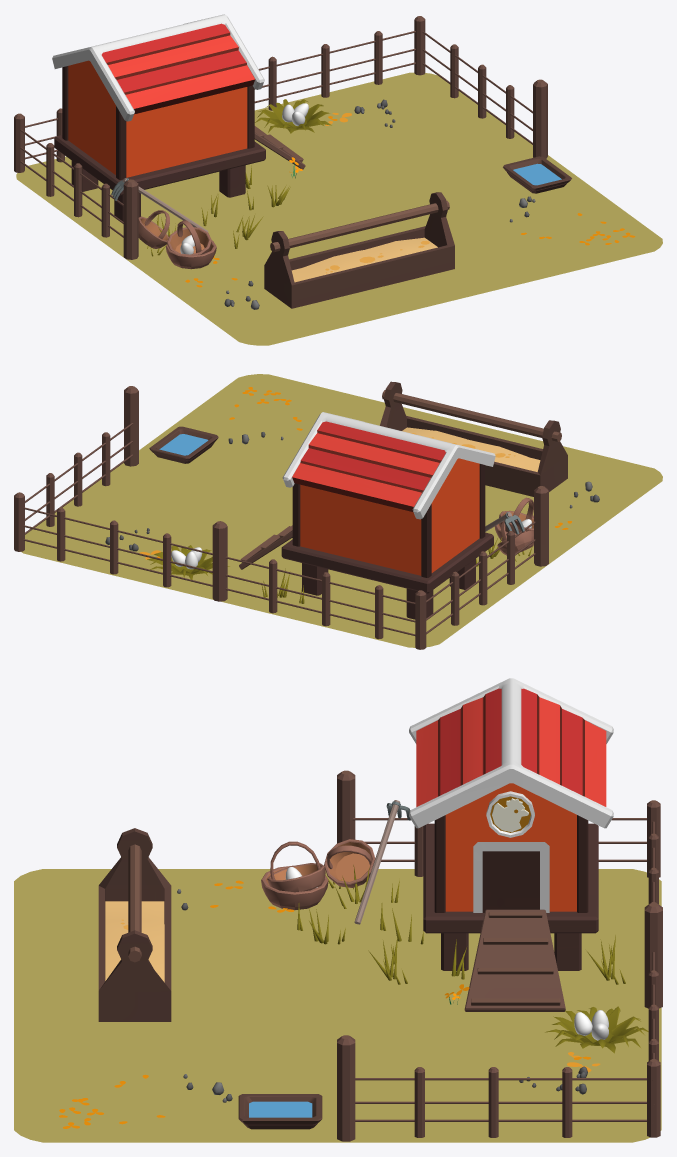
The model's file is Henhouse.fbx.
The picture shows the model from 3 angles, top to bottom: view 1: azimuth 30°, elevation 25°; view 2: azimuth 150°, elevation 25°; view 3: azimuth 270°, elevation 25°; orthographic projection. The views are drawn at different scales.
Visible parts, largest first — view 1: land, house, mang_thuc_an, hang_rao, gio_trung, khay_nuoc, bui_trung, grass, hoa, rock, cao; view 2: land, house, hang_rao, mang_thuc_an, khay_nuoc, bui_trung, gio_trung, rock, hoa, grass; view 3: land, house, hang_rao, mang_thuc_an, gio_trung, khay_nuoc, bui_trung, grass, cao, hoa.
Boxes of the visible parts, left/top/right/bottom form: land: left=16, top=72, right=662, bottom=345; house: left=52, top=14, right=305, bottom=221; mang_thuc_an: left=264, top=192, right=454, bottom=308; hang_rao: left=14, top=16, right=547, bottom=259; gio_trung: left=138, top=210, right=216, bottom=269; khay_nuoc: left=503, top=156, right=571, bottom=193; bui_trung: left=255, top=99, right=331, bottom=133; grass: left=147, top=165, right=290, bottom=256; hoa: left=185, top=113, right=635, bottom=287; rock: left=224, top=99, right=535, bottom=309; cao: left=111, top=178, right=208, bottom=232; land: left=21, top=374, right=662, bottom=647; house: left=239, top=412, right=495, bottom=619; hang_rao: left=14, top=386, right=548, bottom=649; mang_thuc_an: left=380, top=381, right=567, bottom=496; khay_nuoc: left=149, top=426, right=218, bottom=463; bui_trung: left=147, top=545, right=229, bottom=579; gio_trung: left=494, top=497, right=533, bottom=555; rock: left=105, top=432, right=599, bottom=551; hoa: left=139, top=387, right=571, bottom=559; grass: left=261, top=537, right=532, bottom=603; land: left=14, top=869, right=661, bottom=1142; house: left=409, top=678, right=613, bottom=1011; hang_rao: left=337, top=770, right=662, bottom=1141; mang_thuc_an: left=98, top=828, right=171, bottom=1021; gio_trung: left=261, top=839, right=375, bottom=910; khay_nuoc: left=238, top=1094, right=322, bottom=1129; bui_trung: left=545, top=1006, right=648, bottom=1053; grass: left=297, top=865, right=625, bottom=984; cao: left=354, top=800, right=410, bottom=924; hoa: left=59, top=880, right=600, bottom=1128.
Size of the model in its own units: 1300 by 487 by 1303.
